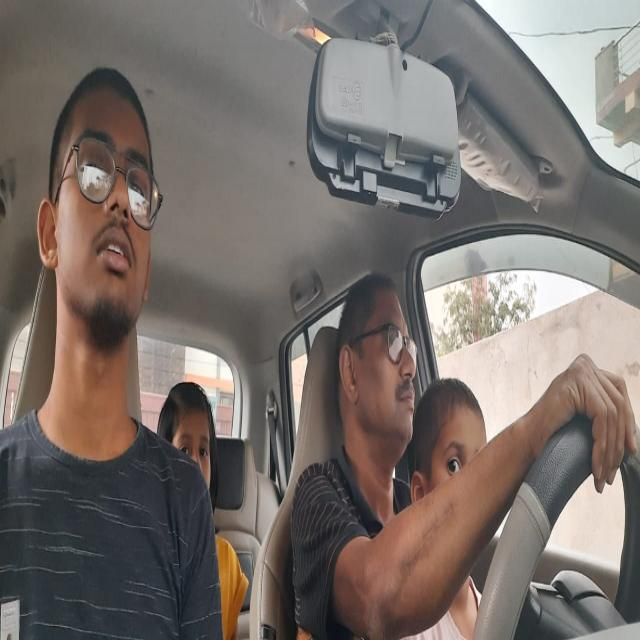child: (406, 372, 492, 496)
person: (36, 56, 162, 338), (331, 265, 419, 457), (155, 376, 214, 486)
